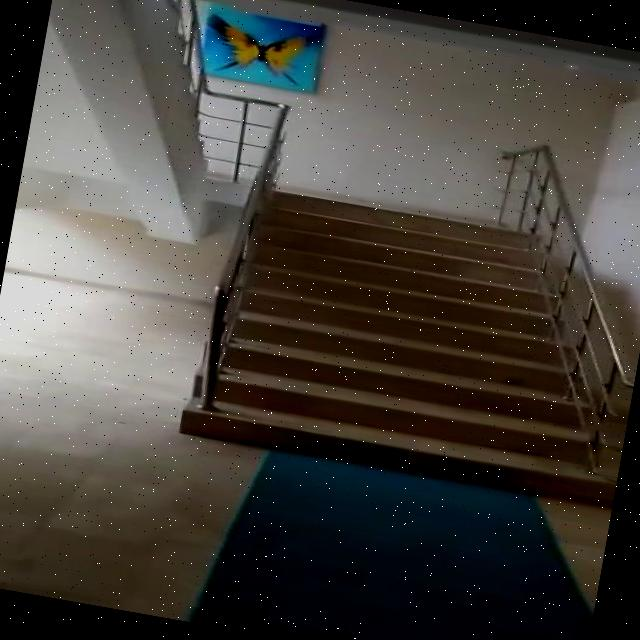stairs: (177, 176, 640, 507)
